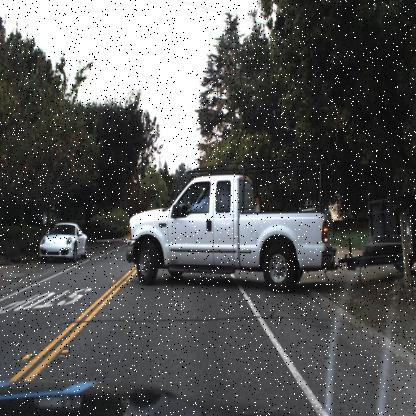car: (36, 218, 87, 262)
truck: (112, 141, 416, 321)
